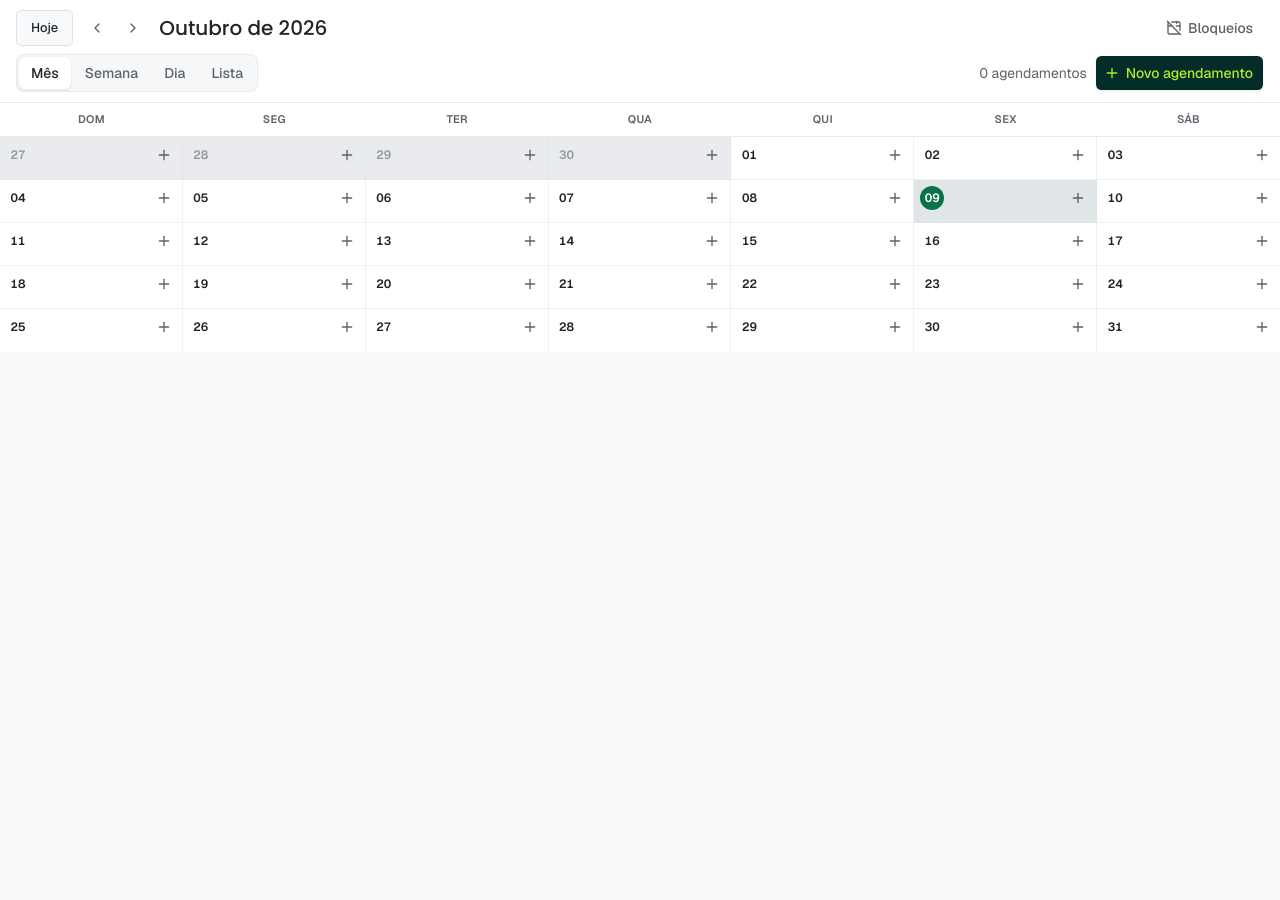
AgendaCalendar › o '+' de um dia abre a criação naquele dia
The image size is (1280, 900).
What coordinates should you click on to do the following:
click the button named "Agendar em Quarta-feira, 21 de outubro"
I would click on:
 (712, 284)
Its box is [700, 272, 724, 296].
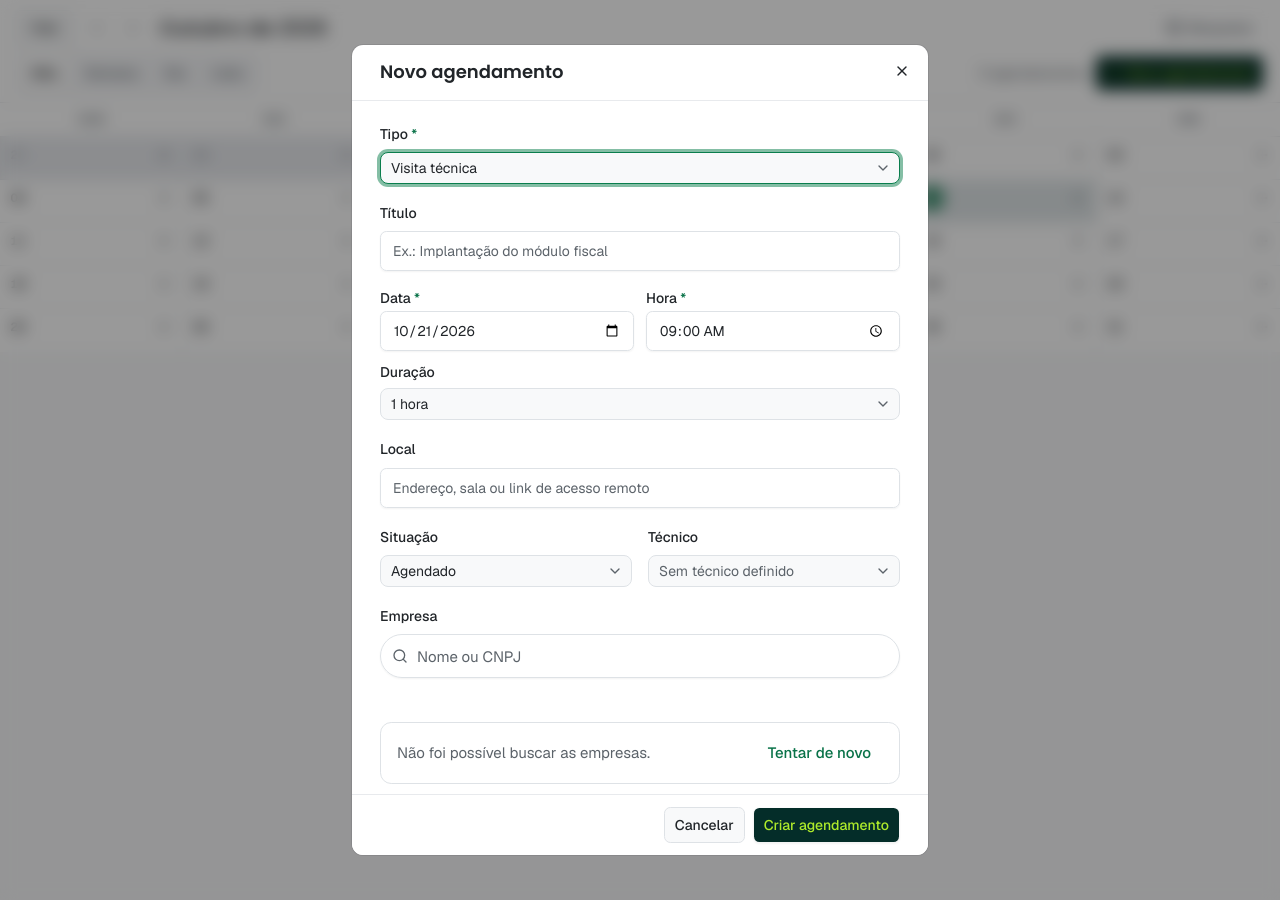
Expected: the heading "Novo agendamento" is shown, [380, 61, 563, 84]
Expected: the date field labelled "Data *" holds "2026-10-21", [380, 311, 634, 351]
